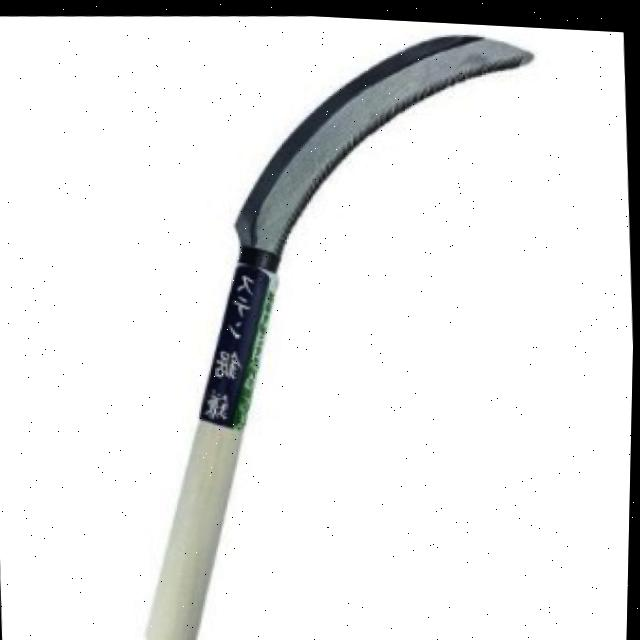sickle: (0, 15, 586, 640)
